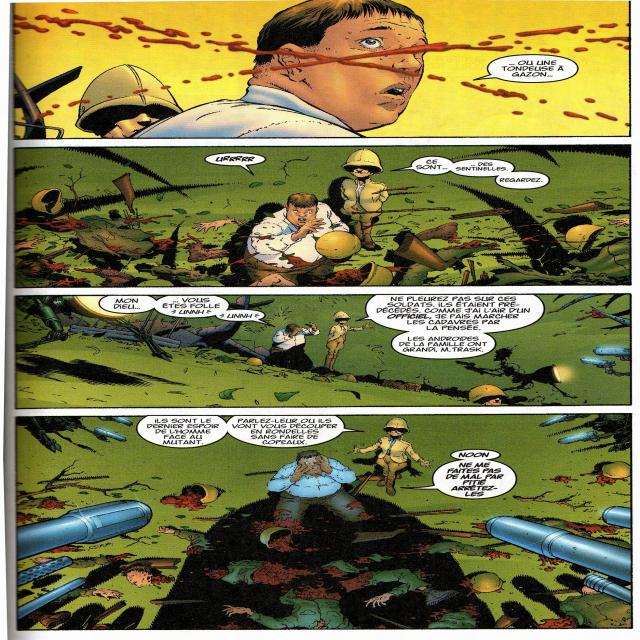comic_panel: (15, 413, 634, 631), (13, 144, 632, 289), (13, 0, 631, 140), (13, 292, 632, 410)
